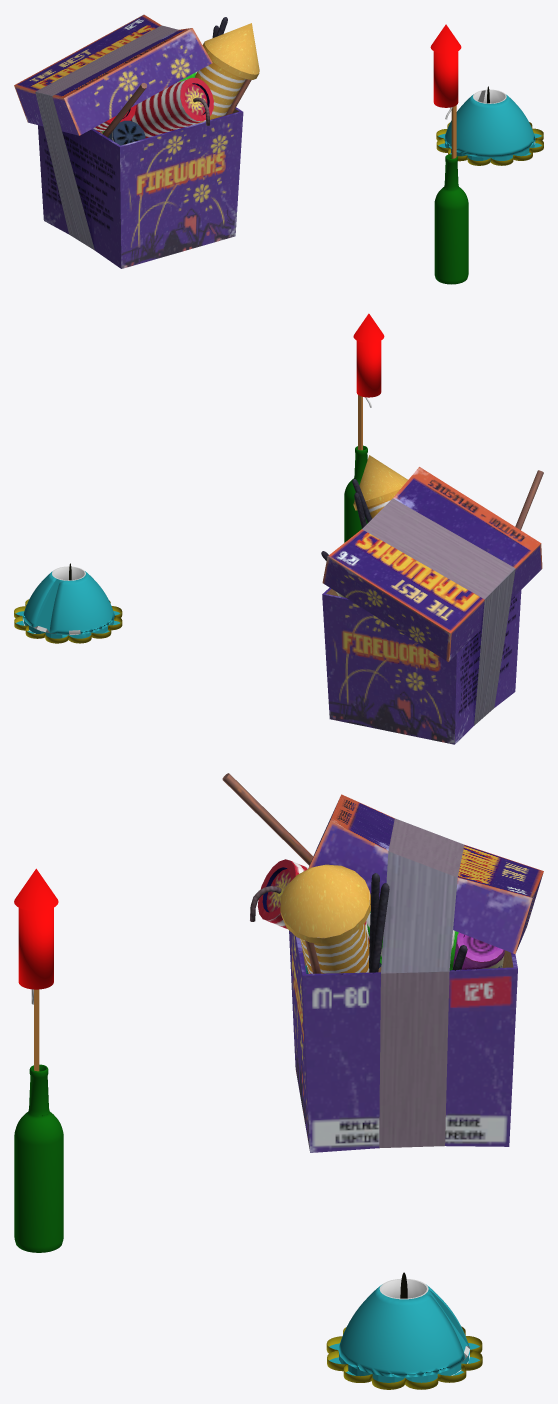
The model's file is Crackers.fbx.
3 renders of one model, top to bottom at view 1: azimuth 30°, elevation 25°; view 2: azimuth 150°, elevation 25°; view 3: azimuth 270°, elevation 25°, orthographic. The views are drawn at different scales.
Visible parts, largest first — view 1: Object_8, Object_21, Object_51, Object_53; view 2: Object_8, Object_21, Object_53, Object_51; view 3: Object_8, Object_21, Object_51, Object_53.
Part boxes in pixels (box(x1,y1,x2,y2)): Object_8: box(14, 14, 259, 268); Object_21: box(436, 86, 543, 165); Object_51: box(434, 154, 468, 284); Object_53: box(430, 24, 461, 158); Object_8: box(321, 455, 543, 744); Object_21: box(14, 563, 122, 643); Object_53: box(353, 313, 384, 450); Object_51: box(344, 445, 367, 542); Object_8: box(222, 773, 543, 1152); Object_21: box(326, 1272, 482, 1389); Object_51: box(14, 1064, 63, 1252); Object_53: box(14, 868, 58, 1071).
Size of the model in its own units: 1304 by 645 by 836.
Materials: 8 (1 with a texture image).
